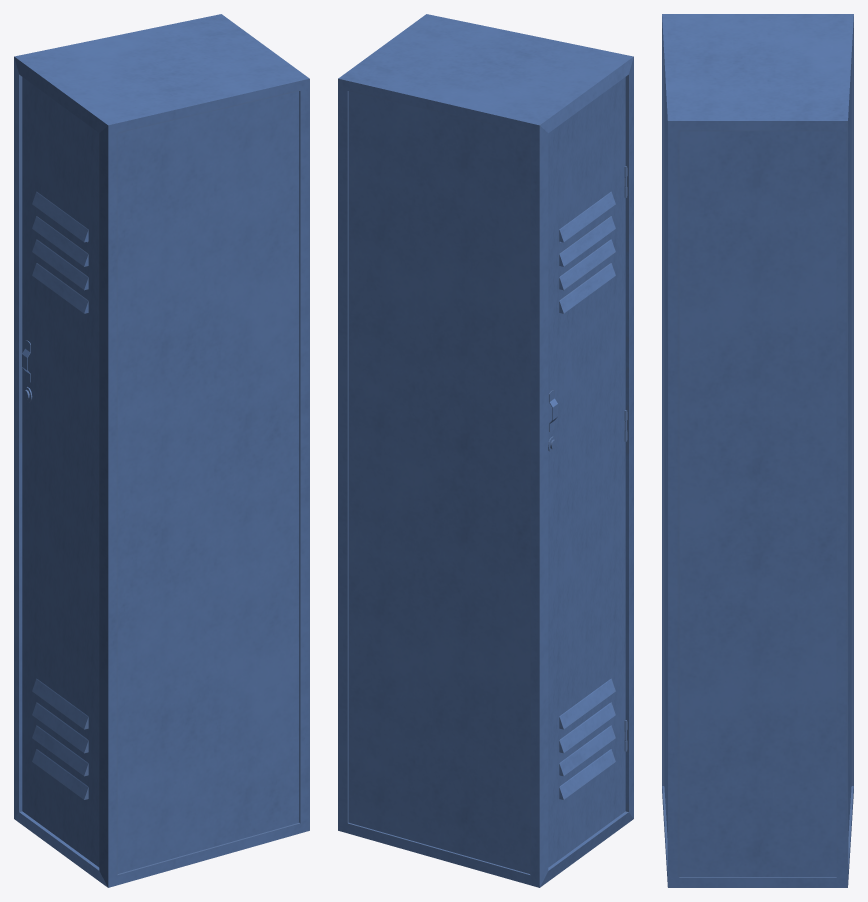
File: SM_Schoolhallway_01.fbx
The picture shows the model from 3 angles, left to right: view 1: azimuth 30°, elevation 25°; view 2: azimuth 150°, elevation 25°; view 3: azimuth 270°, elevation 25°; orthographic projection.
Visible parts, largest first — view 1: SM_Schoolhallway_01; view 2: SM_Schoolhallway_01; view 3: SM_Schoolhallway_01.
Boxes of the visible parts, left/top/right/bottom form: SM_Schoolhallway_01: left=14, top=14, right=309, bottom=887; SM_Schoolhallway_01: left=338, top=14, right=633, bottom=887; SM_Schoolhallway_01: left=662, top=14, right=853, bottom=887.
Bounding box in the file's own units: 57.01 × 44.76 × 200.
2 materials, 2 textured.
